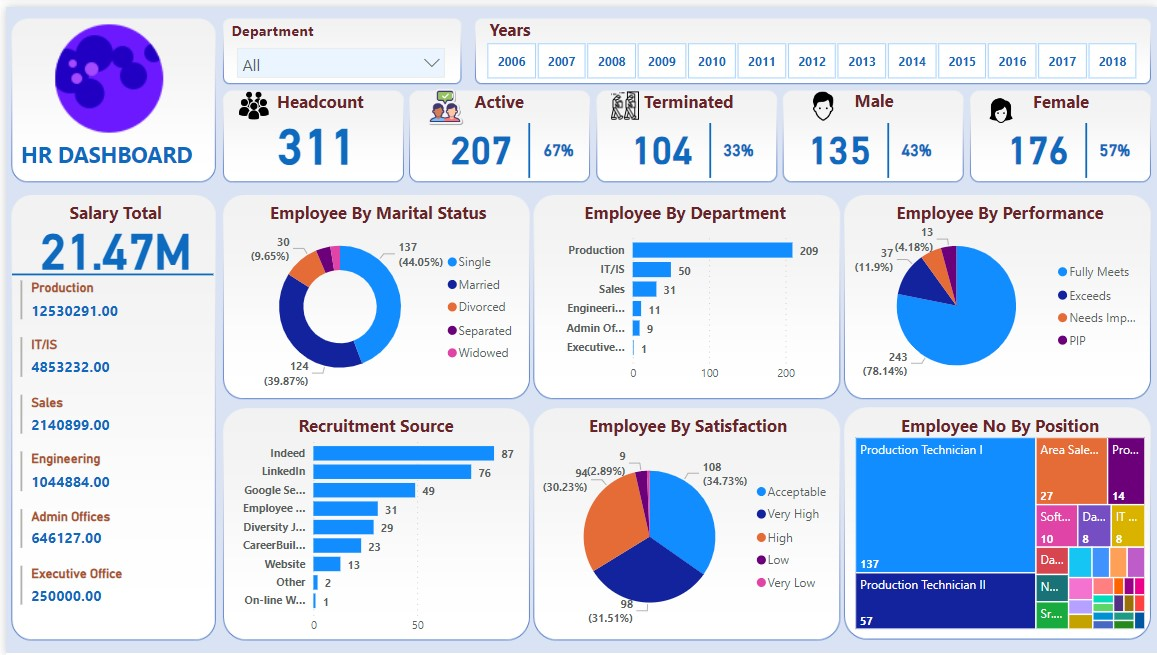

The page's visual inventory and layout, read from the dashboard file:
{"tool":"powerbi","page":{"name":"Page 1","canvas":[1280,720],"ordinal":0},"visuals":[{"type":"image","box":[37,2.7,154.9,153.6],"z":0},{"type":"textbox","box":[0,142.5,223.8,42.5],"z":1000},{"type":"textbox","box":[245.7,10,127.1,31.4],"z":2000},{"type":"slicer","fields":{"Values":["HRData.Department"]},"box":[246.8,35.6,250.9,42.5],"z":3000},{"type":"slicer","fields":{"Values":["HRData.Hiring Year"]},"box":[508.8,33.8,771.2,52.5],"z":4000},{"type":"textbox","box":[532.5,6.2,76.2,38.8],"z":5000},{"type":"textbox","box":[251.2,86.2,196.2,35],"z":6000},{"type":"textbox","box":[444.3,87.1,207.1,41.4],"z":7000},{"type":"textbox","box":[660,87.1,197.1,41.4],"z":8000},{"type":"textbox","box":[867.1,85.7,195.7,42.9],"z":9000},{"type":"textbox","box":[1074.3,87.1,195.7,41.4],"z":10000},{"type":"textbox","box":[247.5,210,331.2,38.8],"z":11000},{"type":"textbox","box":[588.8,210,331.2,38.8],"z":12000},{"type":"textbox","box":[938.8,210,331.2,38.8],"z":13000},{"type":"textbox","box":[938.8,446.6,331.2,38.8],"z":14000},{"type":"textbox","box":[592.5,446.6,331.2,38.8],"z":15000},{"type":"textbox","box":[245,446.6,331.2,38.8],"z":16000},{"type":"textbox","box":[10,210,223.8,38.8],"z":17000},{"type":"card","fields":{"Values":["All Measures.Headcount"]},"box":[278.8,128.8,132.5,61.2],"z":18000},{"type":"card","fields":{"Values":["All Measures.Active"]},"box":[487.1,130,81.4,50],"z":19000},{"type":"card","fields":{"Values":["All Measures.Active %"]},"box":[584,142.5,58.8,33.8],"z":20000},{"type":"shape","box":[559,128.8,45,61.2],"z":21000},{"type":"group","id":"g1","title":"Group 1","box":[687.5,129.1,155.6,61.2],"z":22000},{"type":"group","id":"g2","title":"Group 1","box":[885,128.8,155,61.2],"z":23000},{"type":"group","id":"g3","title":"Group 1","box":[1105.3,128.8,155,61.2],"z":24000},{"type":"card","fields":{"Values":["All Measures.Male"]},"box":[885,130,81.4,50],"z":24000,"group":"g2"},{"type":"card","fields":{"Values":["All Measures.Female"]},"box":[1105.3,130,81.4,50],"z":24000,"group":"g3"},{"type":"card","fields":{"Values":["All Measures.Terminated"]},"box":[687.5,130.3,81.4,50],"z":24000,"group":"g1"},{"type":"card","fields":{"Values":["All Measures.Male %"]},"box":[981.9,142.6,58.8,33.8],"z":25000,"group":"g2"},{"type":"card","fields":{"Values":["All Measures.Female %"]},"box":[1202.2,142.6,58.8,33.8],"z":25000,"group":"g3"},{"type":"card","fields":{"Values":["All Measures.Terminated %"]},"box":[784.4,142.9,58.8,33.8],"z":25000,"group":"g1"},{"type":"donutChart","fields":{"Y":["All Measures.Headcount"],"Category":["HRData.MaritalStatus"]},"box":[247.5,231.2,328.8,203.8],"z":25000},{"type":"shape","box":[956.9,128.8,45,61.2],"z":26000,"group":"g2"},{"type":"shape","box":[1177.2,128.8,45,61.2],"z":26000,"group":"g3"},{"type":"shape","box":[759.4,129.1,45,61.2],"z":26000,"group":"g1"},{"type":"clusteredBarChart","fields":{"Y":["All Measures.Headcount"],"Category":["HRData.Department"]},"box":[603.8,240,320,185],"z":26000},{"type":"pieChart","fields":{"Y":["All Measures.Headcount"],"Category":["HRData.PerformanceScore"]},"box":[938.8,230,331.2,203.8],"z":27000},{"type":"clusteredBarChart","fields":{"Y":["All Measures.Headcount"],"Category":["HRData.RecruitmentSource"]},"box":[245,466.2,331.2,238.8],"z":28000},{"type":"pieChart","fields":{"Y":["All Measures.Headcount"],"Category":["HRData.Satisfaction Status"]},"box":[592.5,472.5,333.8,232.5],"z":29000},{"type":"treemap","fields":{"Group":["HRData.Position"],"Values":["All Measures.Headcount"]},"box":[938.6,472.9,331.4,222.9],"z":30000},{"type":"card","fields":{"Values":["All Measures.Salary"]},"box":[10,245,223.8,61.2],"z":31000},{"type":"shape","box":[6.2,287.5,223.8,18.8],"z":32000},{"type":"multiRowCard","fields":{"Values":["All Measures.Salary","HRData.Department"]},"box":[11.2,298.8,223.8,406.2],"z":33000},{"type":"image","box":[248.8,87.5,52.5,42.5],"z":34000},{"type":"image","box":[461.2,82.5,52.5,56.2],"z":35000},{"type":"image","box":[663.8,87.5,47.5,42.5],"z":36000},{"type":"image","box":[1085,92.5,40,46.2],"z":37000},{"type":"image","box":[885,86.2,45,46.2],"z":38000}]}

Visuals, with their boxes in screenshot pixels (x1, y1, x2, y2), scaled from the page's 1280x720 canvas onto the 1157x655 screenshot:
image: bbox=[33, 2, 173, 142]
textbox: bbox=[0, 130, 202, 168]
textbox: bbox=[222, 9, 337, 38]
slicer - HRData.Department: bbox=[223, 32, 450, 71]
slicer - HRData.Hiring Year: bbox=[460, 31, 1156, 79]
textbox: bbox=[481, 6, 550, 41]
textbox: bbox=[227, 78, 404, 110]
textbox: bbox=[402, 79, 589, 117]
textbox: bbox=[597, 79, 775, 117]
textbox: bbox=[784, 78, 961, 117]
textbox: bbox=[971, 79, 1148, 117]
textbox: bbox=[224, 191, 523, 226]
textbox: bbox=[532, 191, 832, 226]
textbox: bbox=[849, 191, 1148, 226]
textbox: bbox=[849, 406, 1148, 442]
textbox: bbox=[536, 406, 835, 442]
textbox: bbox=[221, 406, 521, 442]
textbox: bbox=[9, 191, 211, 226]
card - All Measures.Headcount: bbox=[252, 117, 372, 173]
card - All Measures.Active: bbox=[440, 118, 514, 164]
card - All Measures.Active %: bbox=[528, 130, 581, 160]
shape: bbox=[505, 117, 546, 173]
"Group 1" group: bbox=[621, 117, 762, 173]
"Group 1" group: bbox=[800, 117, 940, 173]
"Group 1" group: bbox=[999, 117, 1139, 173]
card - All Measures.Male: bbox=[800, 118, 874, 164]
card - All Measures.Female: bbox=[999, 118, 1073, 164]
card - All Measures.Terminated: bbox=[621, 119, 695, 164]
card - All Measures.Male %: bbox=[888, 130, 941, 160]
card - All Measures.Female %: bbox=[1087, 130, 1140, 160]
card - All Measures.Terminated %: bbox=[709, 130, 762, 161]
donutChart - All Measures.Headcount x HRData.MaritalStatus: bbox=[224, 210, 521, 396]
shape: bbox=[865, 117, 906, 173]
shape: bbox=[1064, 117, 1105, 173]
shape: bbox=[686, 117, 727, 173]
clusteredBarChart - All Measures.Headcount x HRData.Department: bbox=[546, 218, 835, 387]
pieChart - All Measures.Headcount x HRData.PerformanceScore: bbox=[849, 209, 1148, 395]
clusteredBarChart - All Measures.Headcount x HRData.RecruitmentSource: bbox=[221, 424, 521, 641]
pieChart - All Measures.Headcount x HRData.Satisfaction Status: bbox=[536, 430, 837, 641]
treemap - HRData.Position x All Measures.Headcount: bbox=[848, 430, 1148, 633]
card - All Measures.Salary: bbox=[9, 223, 211, 279]
shape: bbox=[6, 262, 208, 279]
multiRowCard - All Measures.Salary x HRData.Department: bbox=[10, 272, 212, 641]
image: bbox=[225, 80, 272, 118]
image: bbox=[417, 75, 464, 126]
image: bbox=[600, 80, 643, 118]
image: bbox=[981, 84, 1017, 126]
image: bbox=[800, 78, 841, 120]
